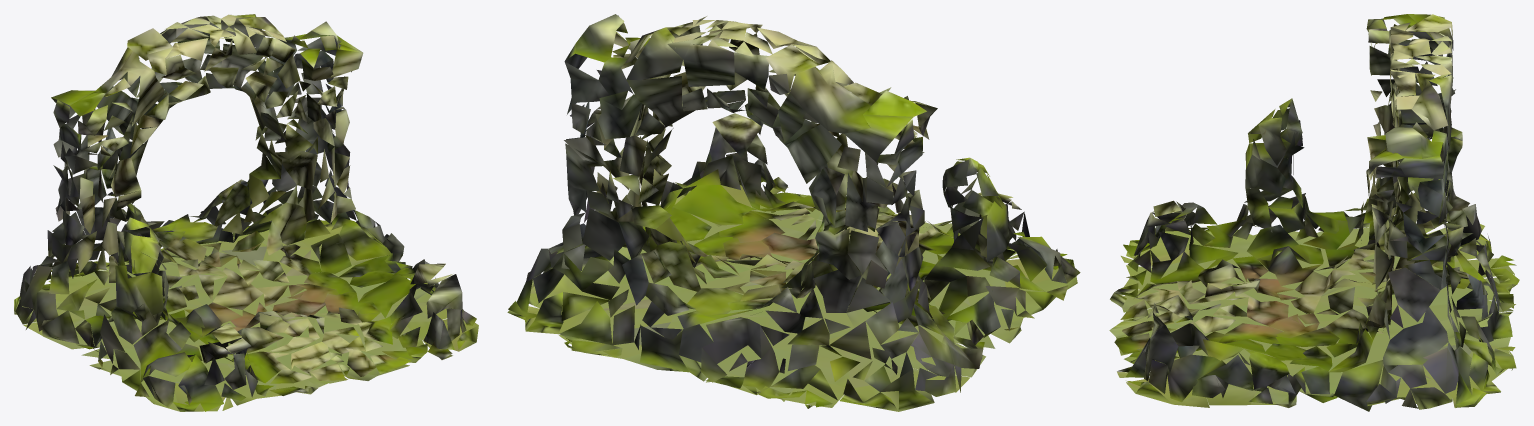
Rendered from Ancient_Gateway_Ruins_town.glb.
3 renders of one model, left to right at view 1: azimuth 30°, elevation 25°; view 2: azimuth 150°, elevation 25°; view 3: azimuth 270°, elevation 25°, orthographic. The views are drawn at different scales.
Visible parts, largest first — view 1: Ancient_Gateway_Ruins; view 2: Ancient_Gateway_Ruins; view 3: Ancient_Gateway_Ruins.
Part boxes in pixels (bbox=[...]): Ancient_Gateway_Ruins: bbox=[14, 14, 478, 411]; Ancient_Gateway_Ruins: bbox=[507, 14, 1080, 411]; Ancient_Gateway_Ruins: bbox=[1109, 14, 1519, 411].
Bounding box in the file's own units: 1.89 × 1.29 × 1.73.
Materials: 1 (1 with a texture image).
